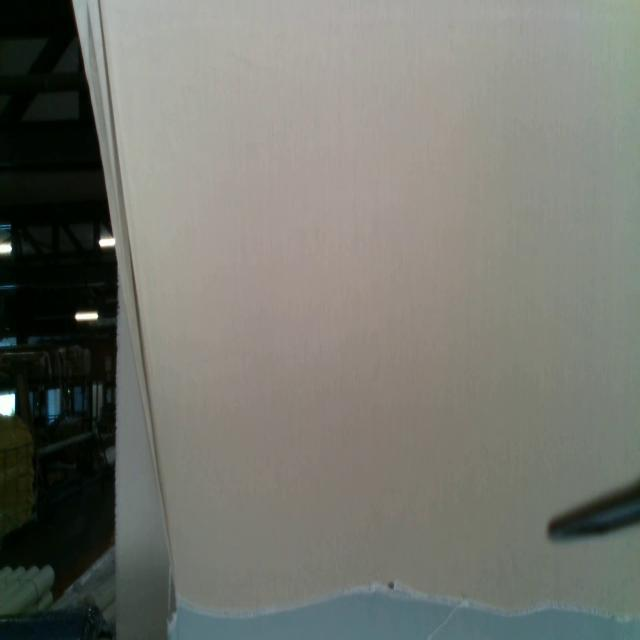hole: (388, 579, 396, 591)
